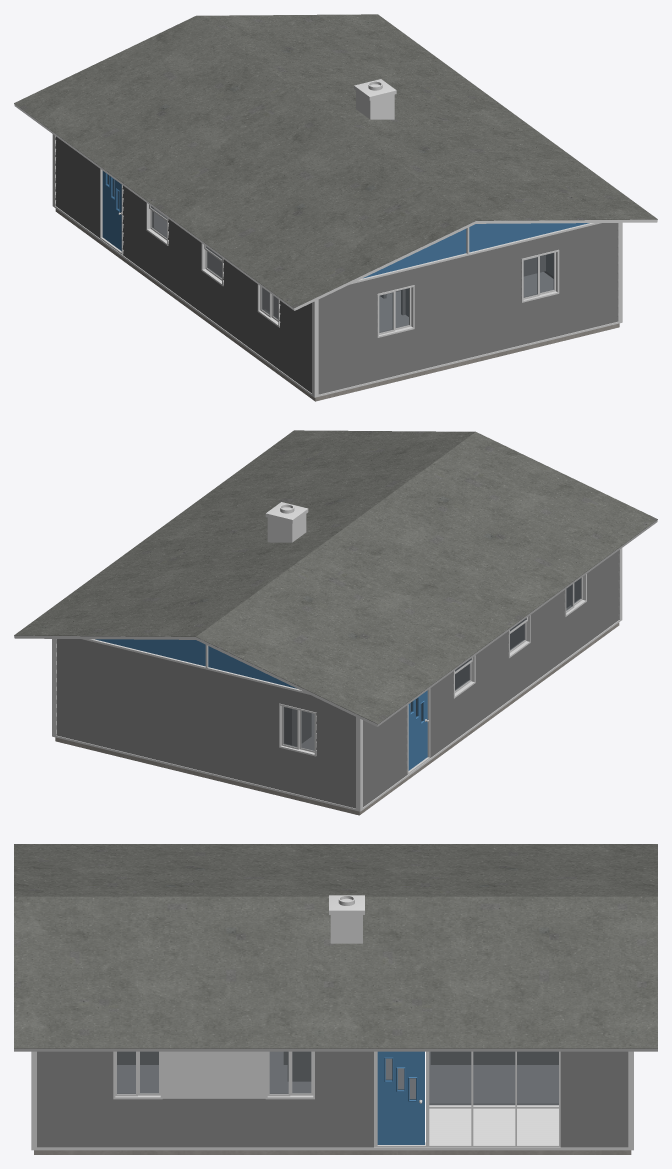
File: house_lranch.glb
3 views of the same model, one above another, from view 1: azimuth 30°, elevation 25°; view 2: azimuth 150°, elevation 25°; view 3: azimuth 270°, elevation 25° (orthographic). The views are drawn at different scales.
Size of the model in its own units: 12.7 by 5.66 by 16.92.
Materials: 7 (3 with a texture image).
